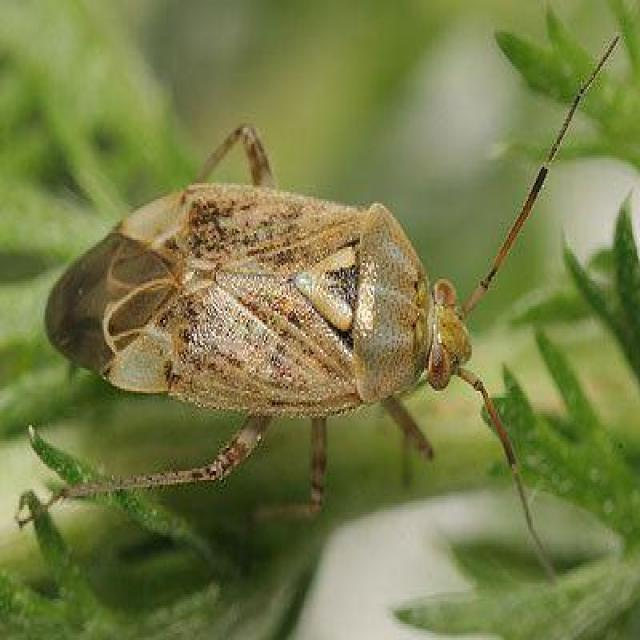Miridae-Adult-: (23, 41, 595, 580)
